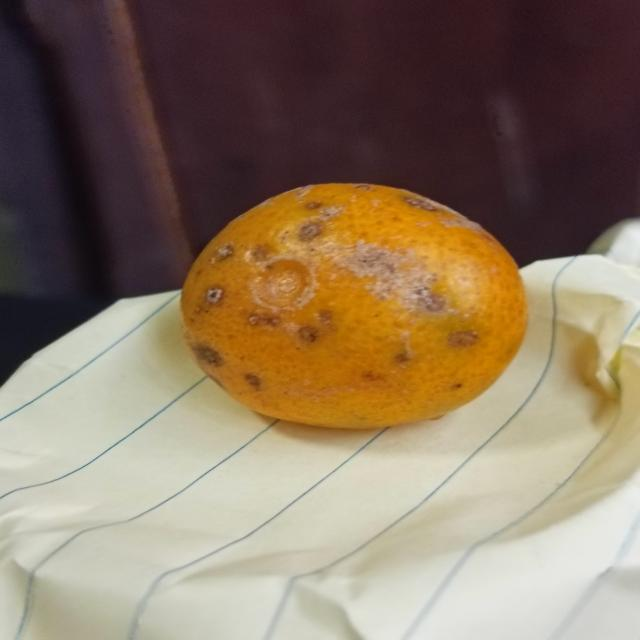black spot: (177, 180, 531, 431)
